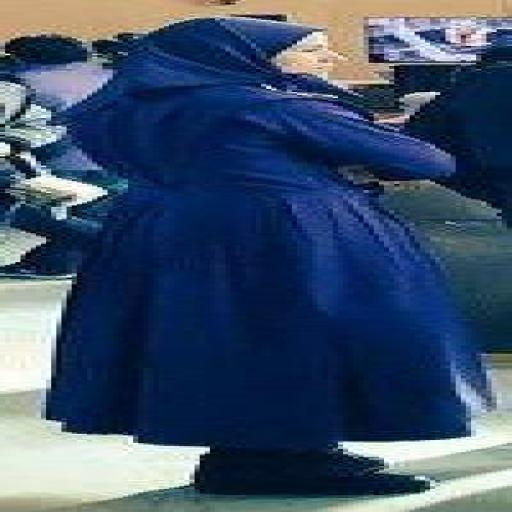person: (47, 17, 486, 495), (405, 45, 511, 225), (0, 137, 122, 278)
